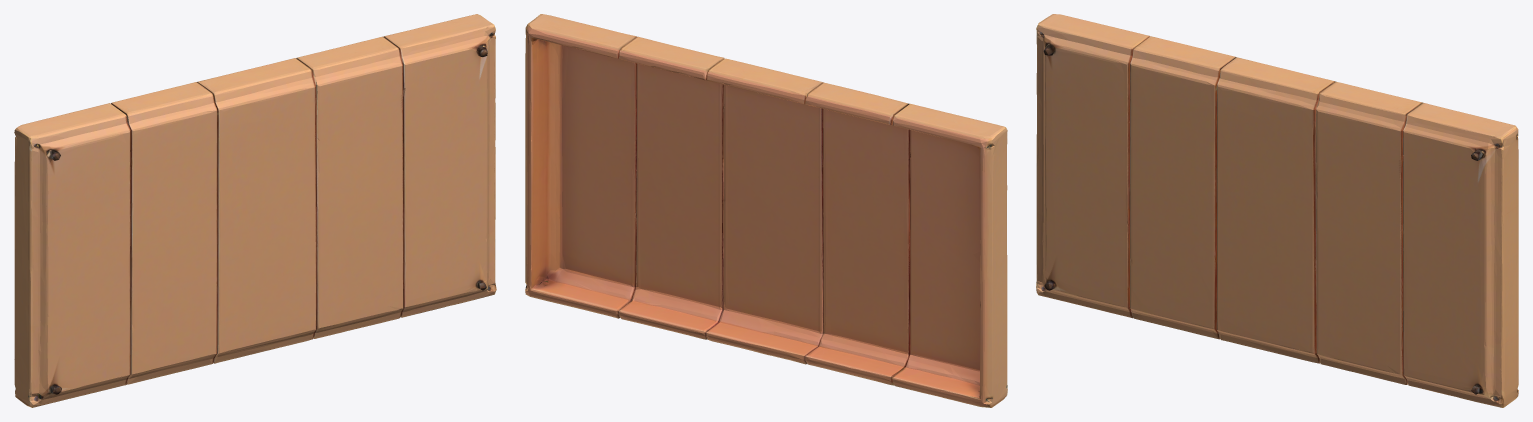
The model's file is Low_poly_modular_wall_0625191542_texture.fbx.
The picture shows the model from 3 angles, left to right: view 1: azimuth 30°, elevation 25°; view 2: azimuth 150°, elevation 25°; view 3: azimuth 330°, elevation 25°; orthographic projection.
Parts seen in each view (by area): view 1: temp; view 2: temp; view 3: temp.
Boxes of the visible parts, x1,y1,x2,y2 form: temp: [14, 14, 496, 407]; temp: [525, 14, 1007, 407]; temp: [1036, 14, 1518, 407].
Bounding box in the file's own units: 200 × 111 × 20.58.
Materials: 1 (1 with a texture image).
